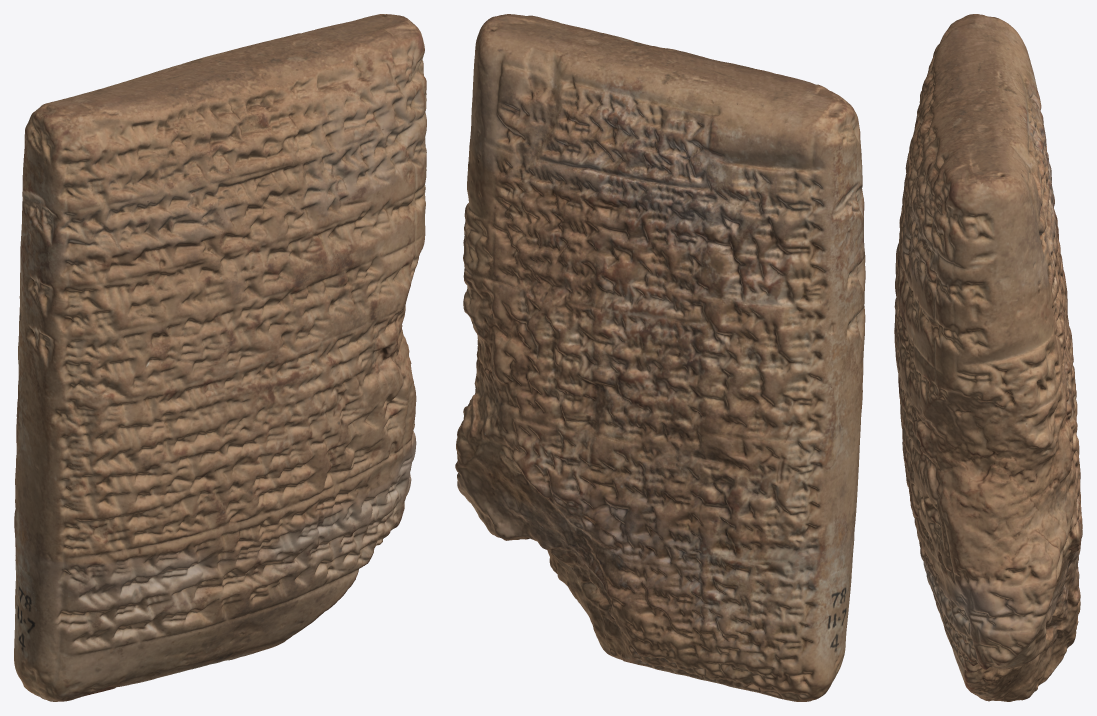
The model's file is clay_cuneiform_tablet.glb.
The picture shows the model from 3 angles, left to right: view 1: azimuth 30°, elevation 25°; view 2: azimuth 150°, elevation 25°; view 3: azimuth 270°, elevation 25°; orthographic projection. The views are drawn at different scales.
Visible parts, largest first — view 1: Object_2, Object_3, Object_4, Object_5, Object_6; view 2: Object_5, Object_4, Object_6, Object_3, Object_2; view 3: Object_2, Object_3, Object_4, Object_5, Object_6.
Part boxes in pixels (x1,y1,x2,y2): Object_2: (74,14,426,529); Object_3: (24,29,416,588); Object_4: (16,80,416,657); Object_5: (14,296,295,701); Object_6: (14,138,404,701); Object_5: (459,273,858,701); Object_4: (463,93,865,701); Object_6: (455,131,865,701); Object_3: (455,42,865,521); Object_2: (463,14,833,361); Object_2: (894,22,1070,668); Object_3: (894,14,1069,668); Object_4: (913,15,1082,698); Object_5: (965,359,1082,701); Object_6: (933,38,1078,699).
Size of the model in its own units: 74.69 by 112 by 32.3.
1 material, 1 textured.
